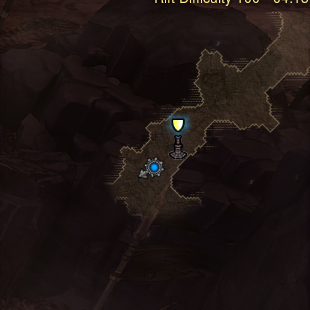ShieldPylon: (168, 116, 189, 159)
